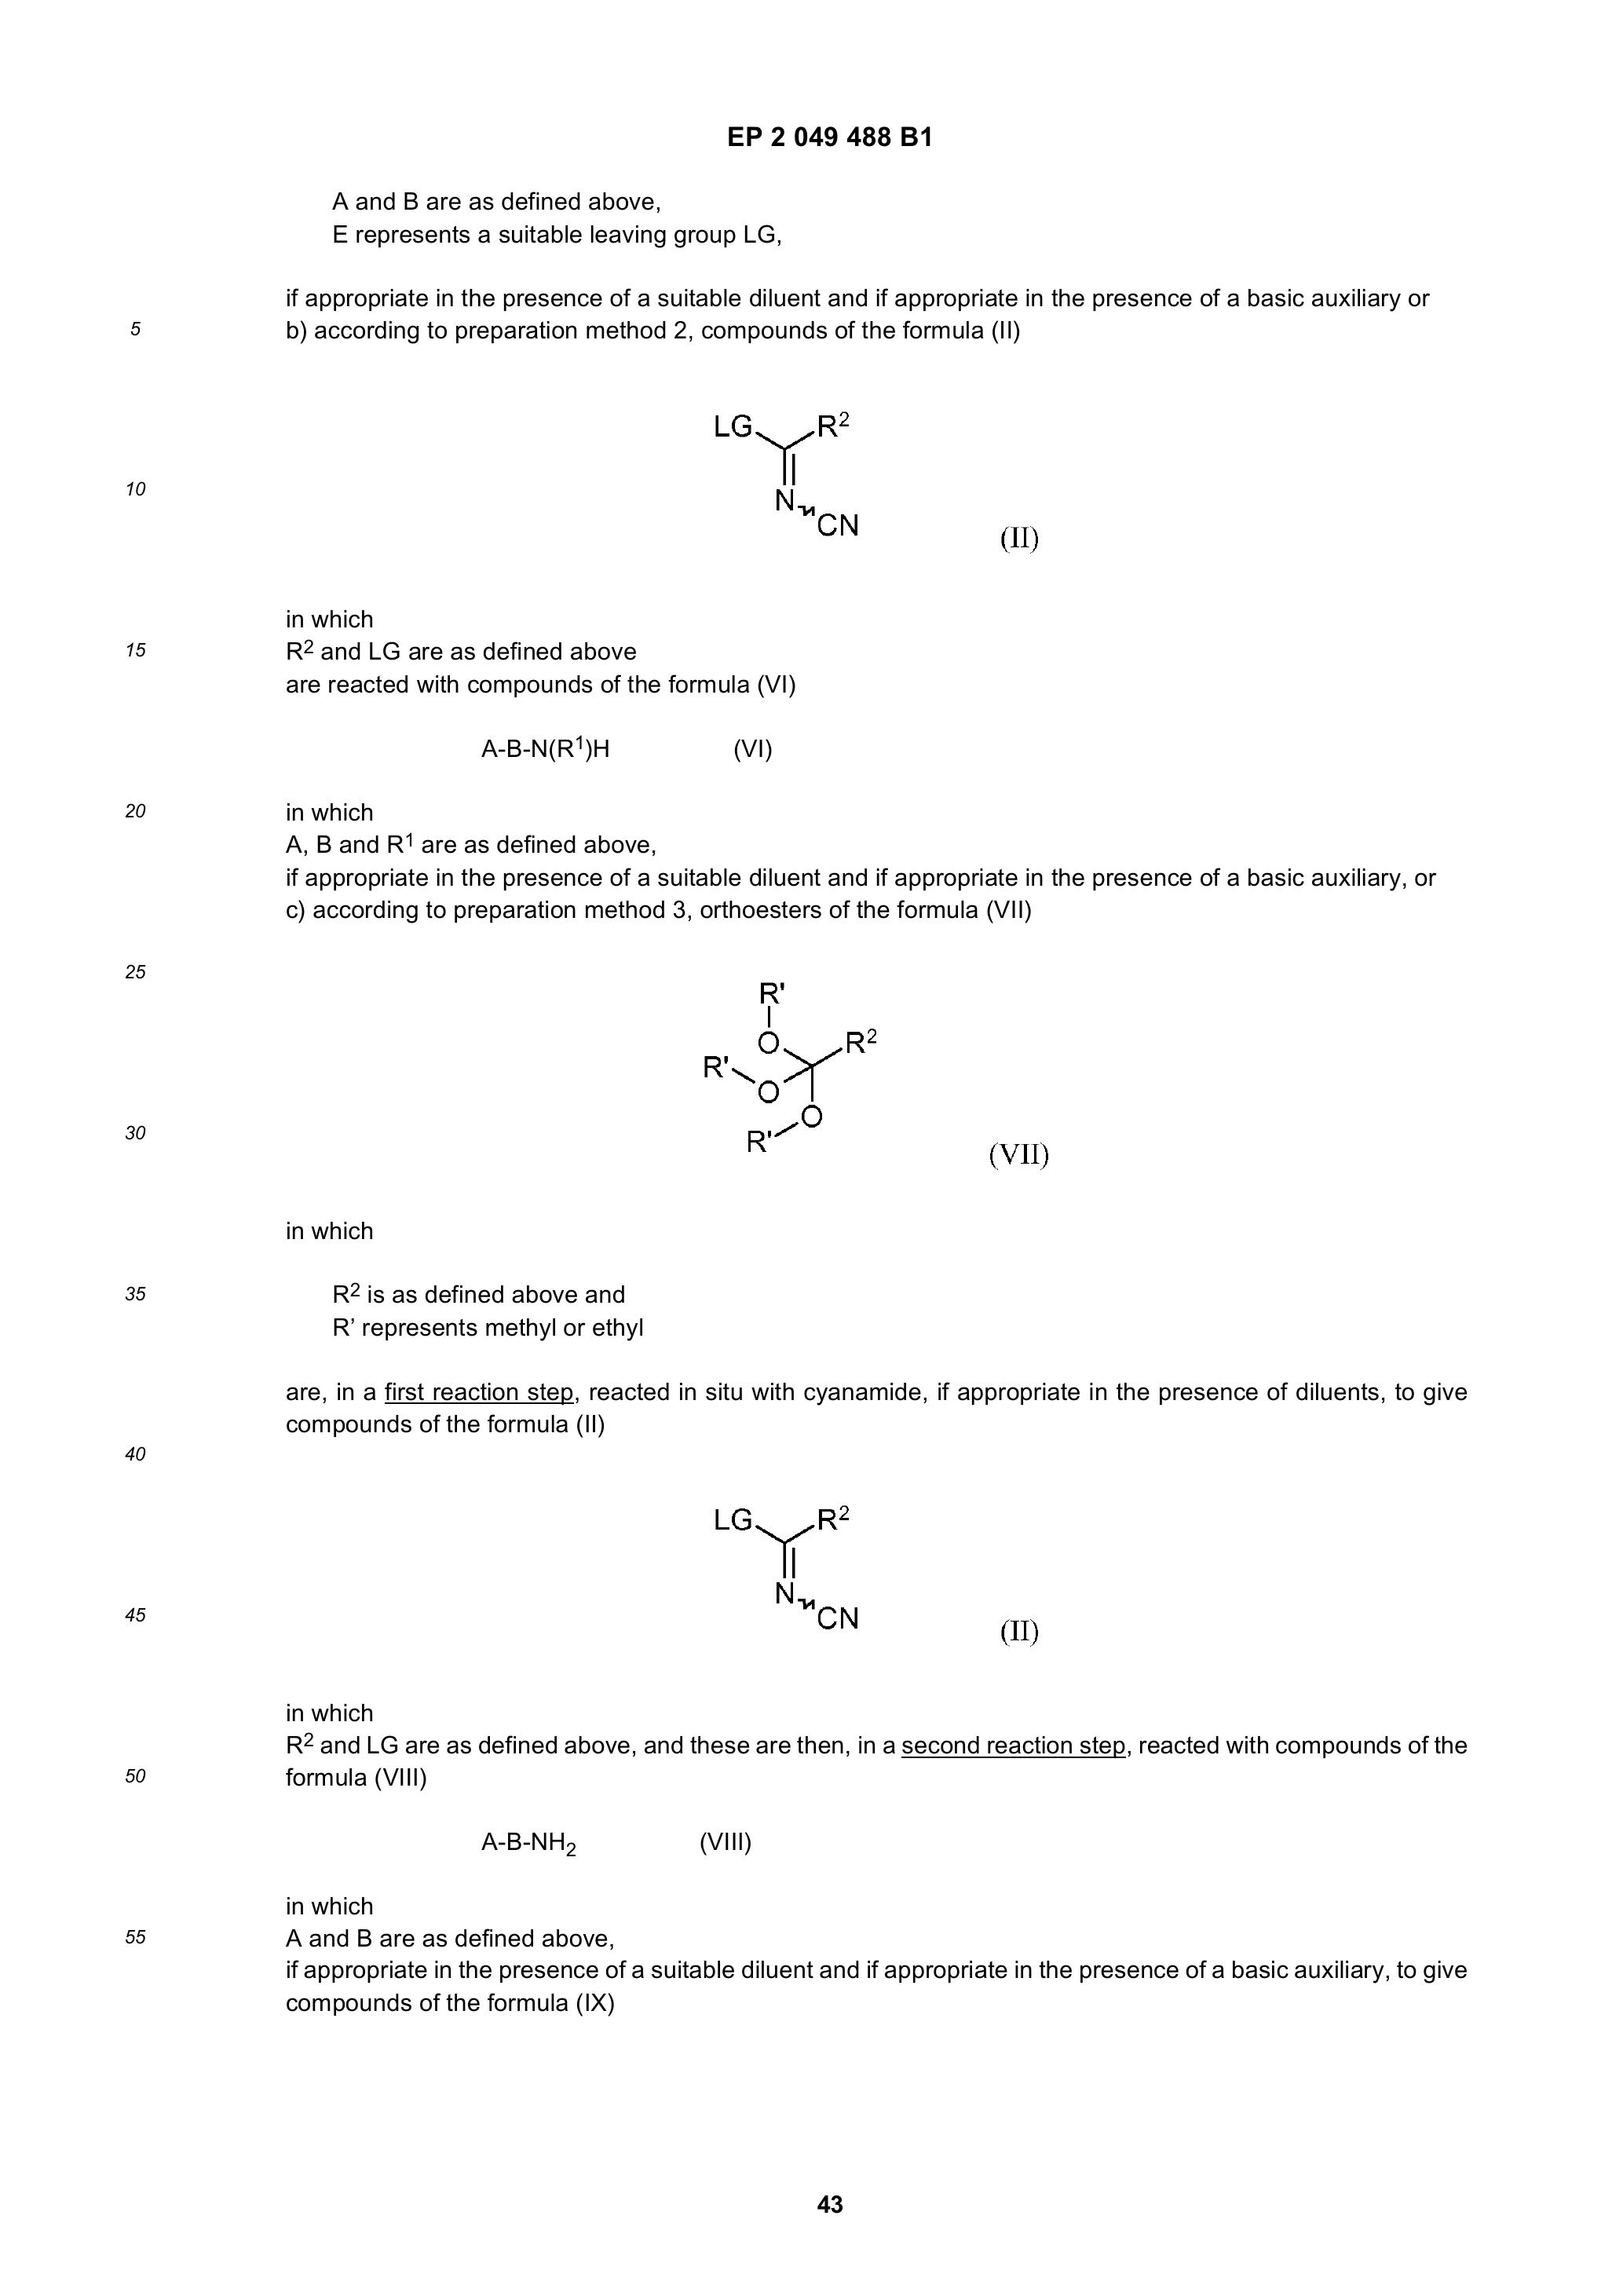markush-structures: (680, 949, 884, 1152), (682, 385, 887, 564), (697, 1467, 889, 1637)
